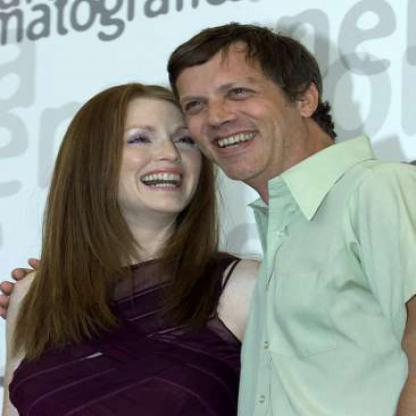face: (172, 34, 299, 184), (96, 88, 209, 222)
